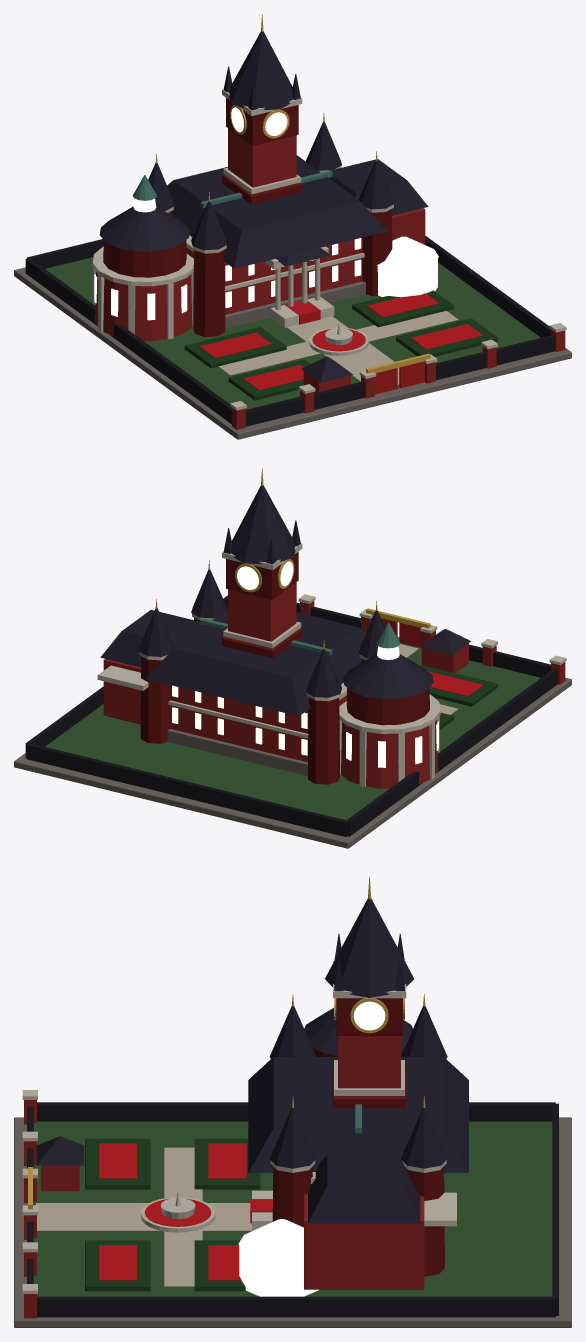
Rendered from scarlet-devil-mansion.glb.
3 renders of one model, top to bottom at view 1: azimuth 30°, elevation 25°; view 2: azimuth 150°, elevation 25°; view 3: azimuth 270°, elevation 25°, orthographic. The views are drawn at different scales.
Visible parts, largest first — view 1: scarlet-devil-mansion_Opaque, scarlet-devil-mansion_Emissive; view 2: scarlet-devil-mansion_Opaque, scarlet-devil-mansion_Emissive; view 3: scarlet-devil-mansion_Opaque, scarlet-devil-mansion_Emissive.
Boxes of the visible parts, x1,y1,x2,y2 form: scarlet-devil-mansion_Opaque: (14, 14, 571, 439); scarlet-devil-mansion_Emissive: (94, 107, 438, 320); scarlet-devil-mansion_Opaque: (14, 468, 571, 848); scarlet-devil-mansion_Emissive: (172, 561, 438, 767); scarlet-devil-mansion_Opaque: (14, 877, 571, 1327); scarlet-devil-mansion_Emissive: (238, 998, 385, 1296).
Bounding box in the file's own units: 88 × 70.5 × 102.
